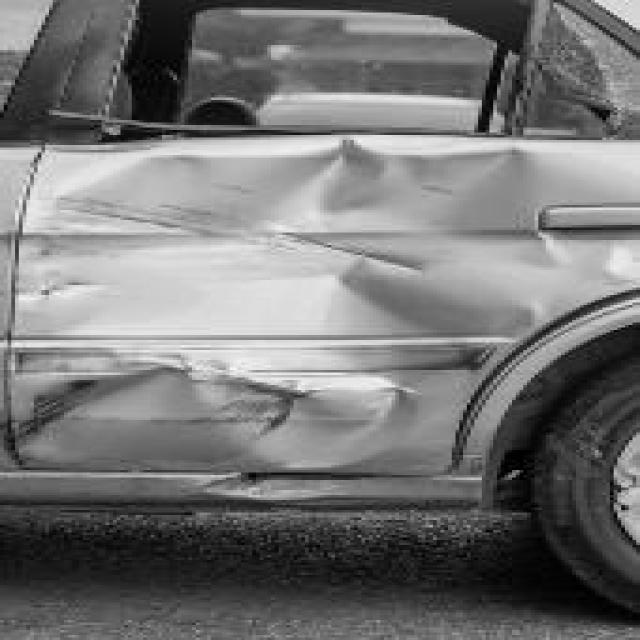Door: (11, 0, 640, 495)
